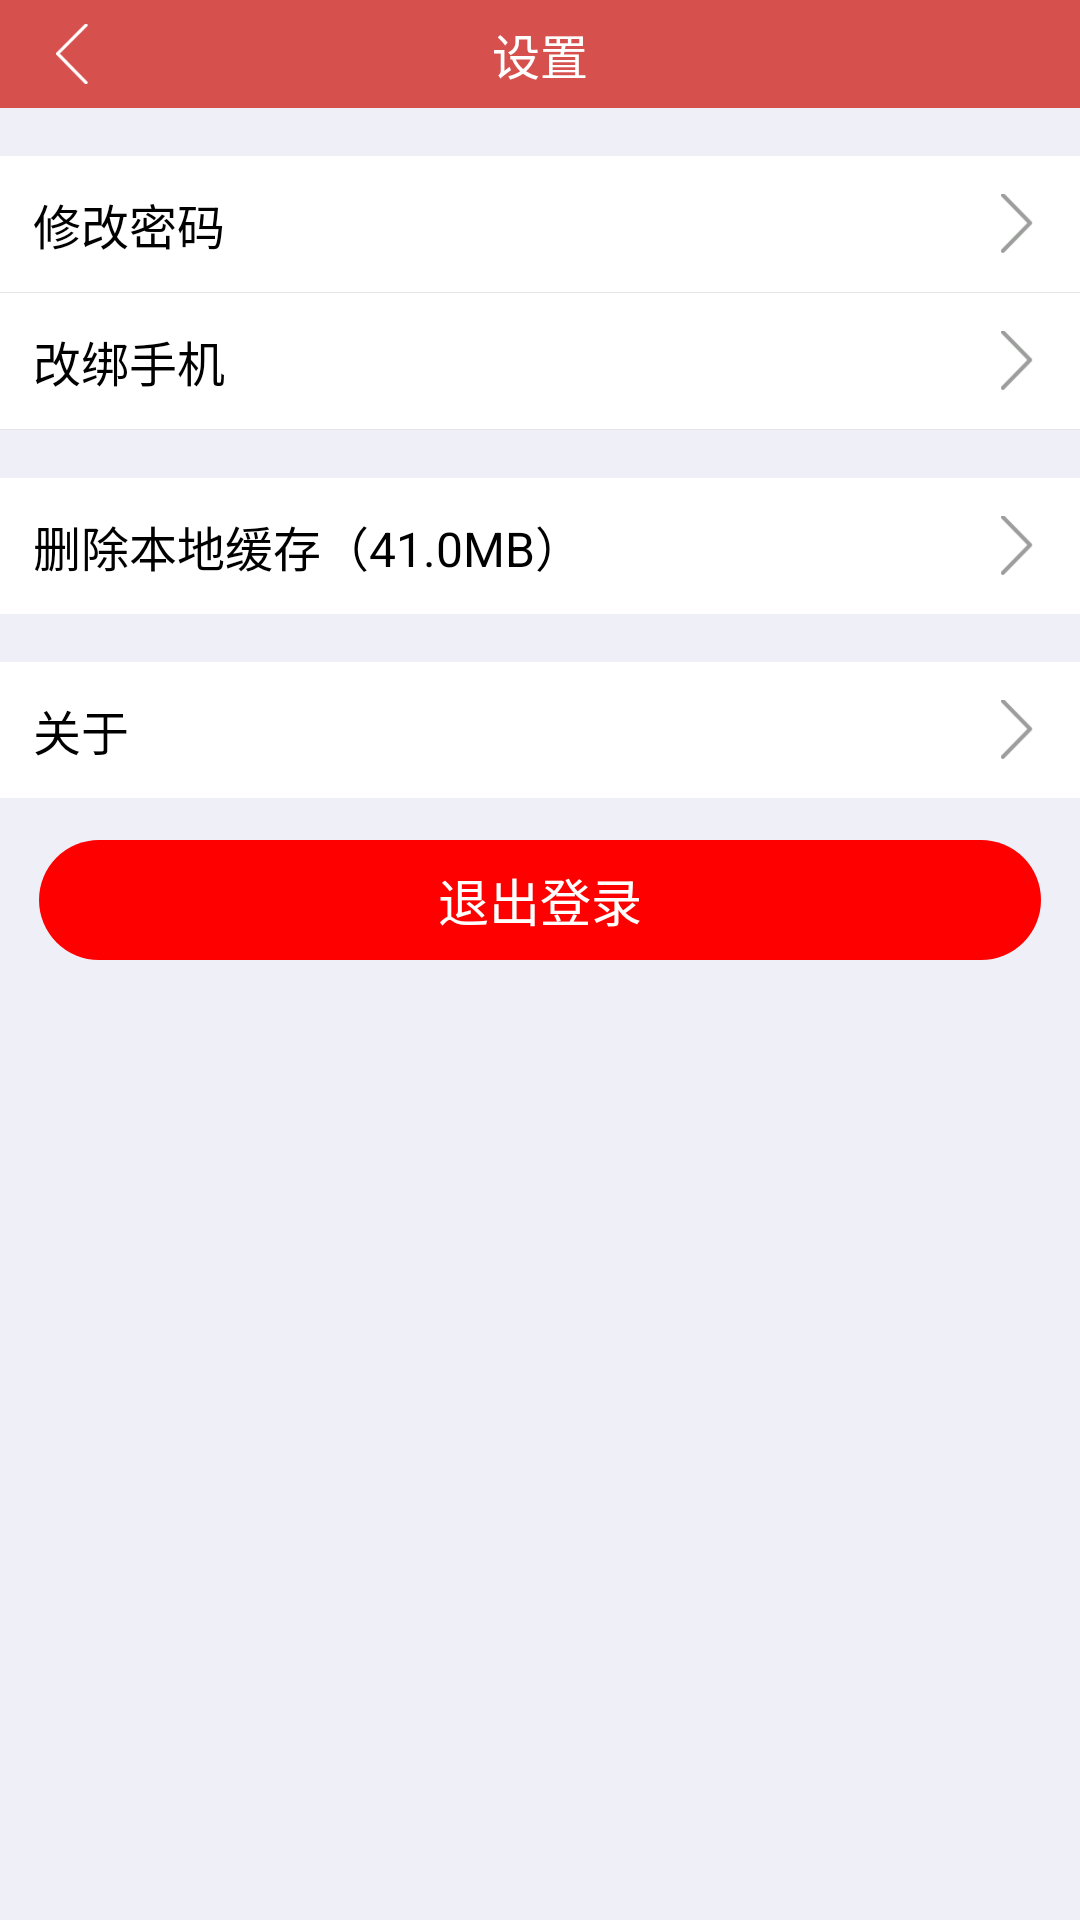

Icon bounding boxes for this 1080x1920 phone screenshot, format [x1,y1,x2,y2]:
detailback: [56,24,88,84]
